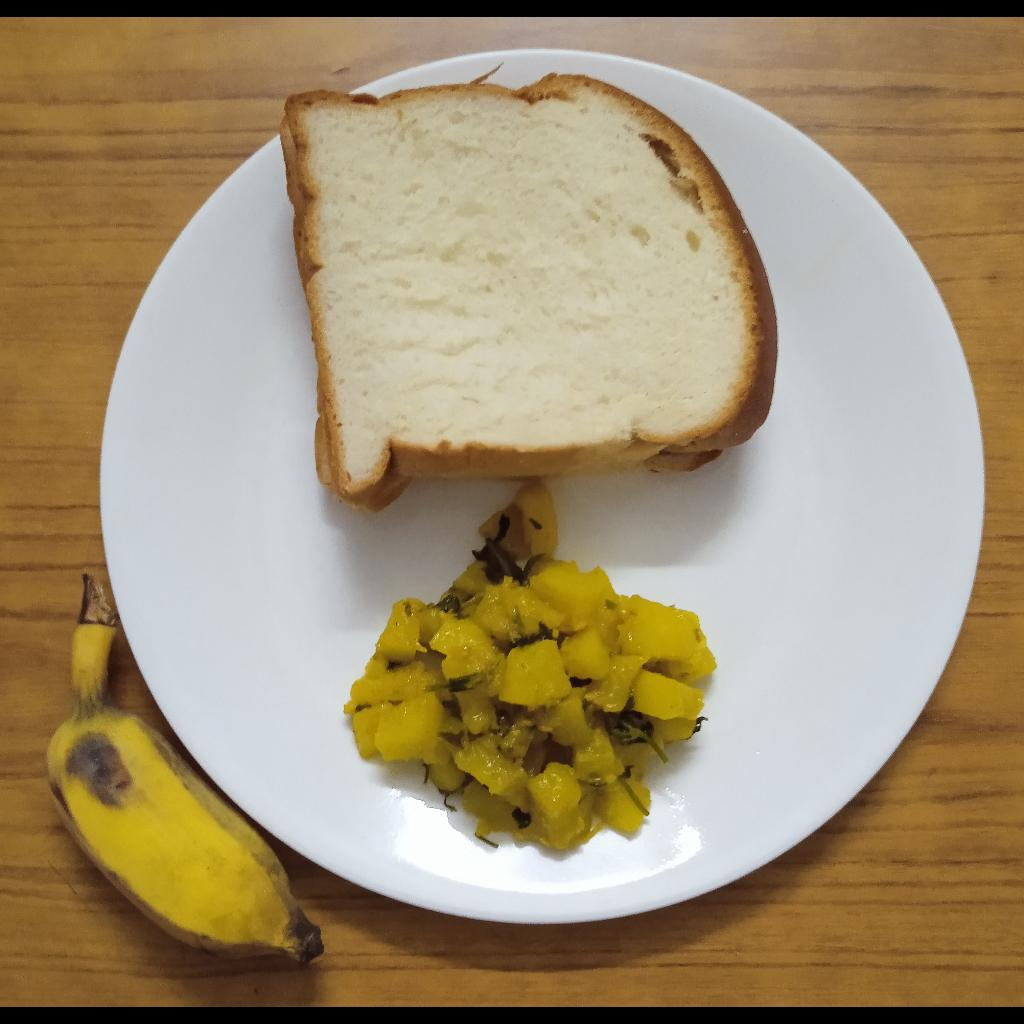banana: (46, 569, 325, 966)
bread: (276, 73, 779, 520)
vegetable: (340, 472, 716, 858)
